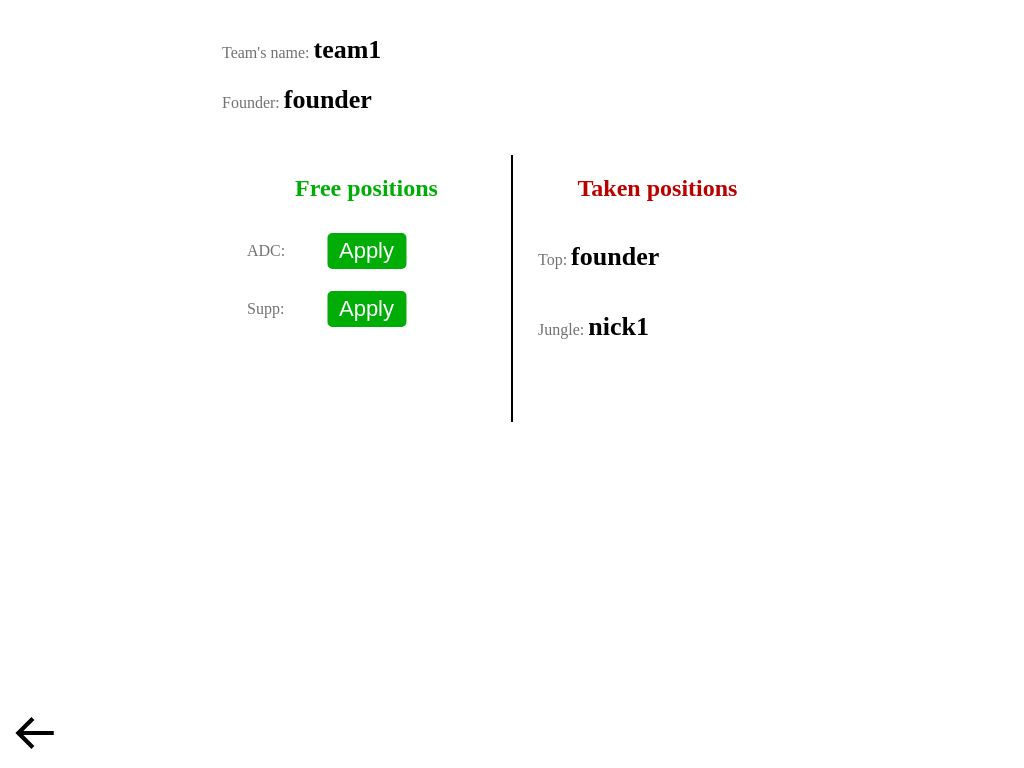
Scenario: Team component › send application to the team being unlogged
The image size is (1024, 768).
Click the button with test id "SuppApplyButton": (366,309) [327,291,406,327]
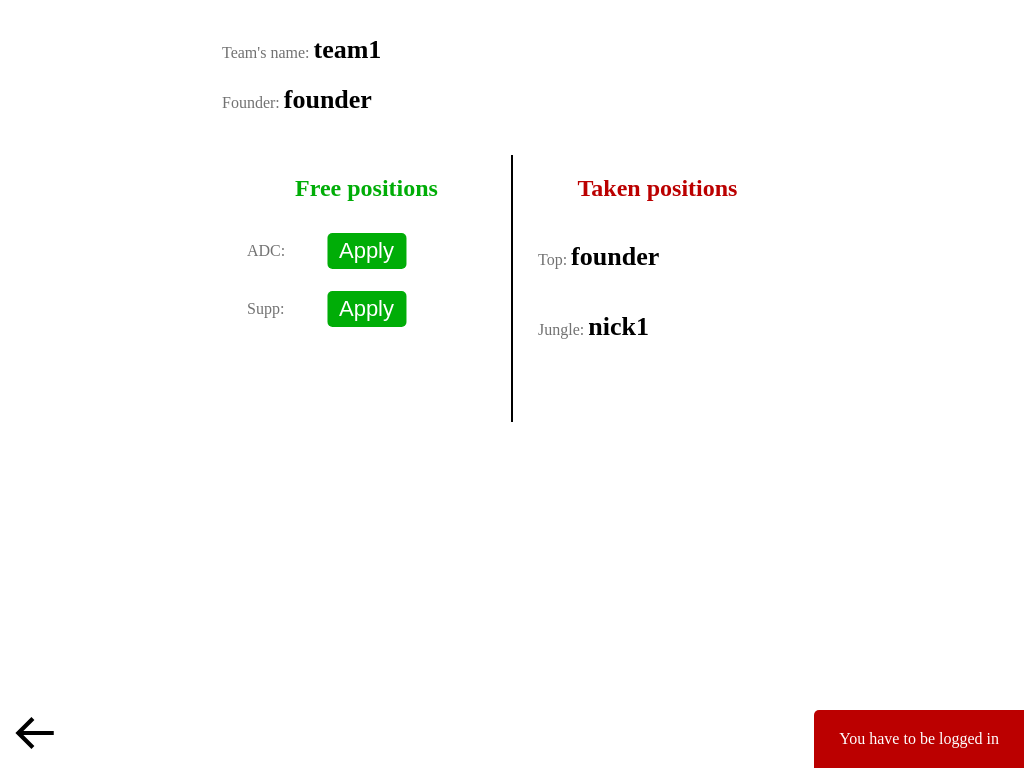
Result: the element with test id "infoModal" reads "You have to be logged in" at [839,730,999,747]
